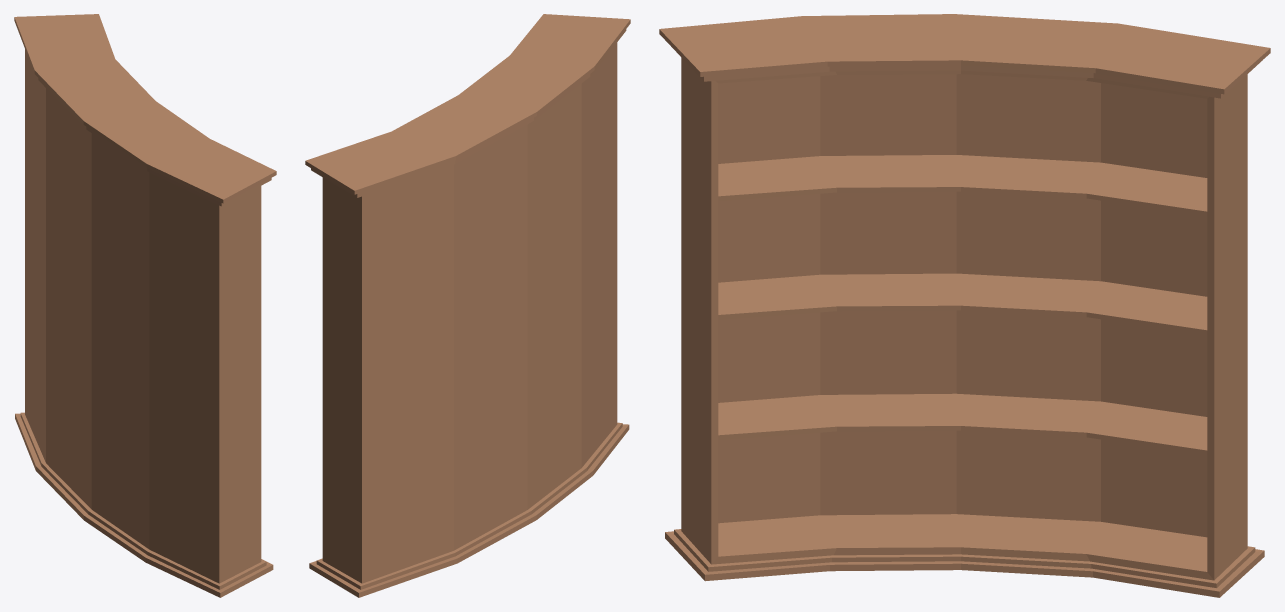
File: bookshelf.fbx
The picture shows the model from 3 angles, left to right: view 1: azimuth 30°, elevation 25°; view 2: azimuth 150°, elevation 25°; view 3: azimuth 270°, elevation 25°; orthographic projection. The views are drawn at different scales.
Parts seen in each view (by area): view 1: Cube; view 2: Cube; view 3: Cube.
Part boxes in pixels (bbox=[...]): Cube: bbox=[14, 14, 276, 597]; Cube: bbox=[305, 14, 630, 597]; Cube: bbox=[659, 14, 1270, 597].
Size of the model in its own units: 334 by 1053 by 1144.
